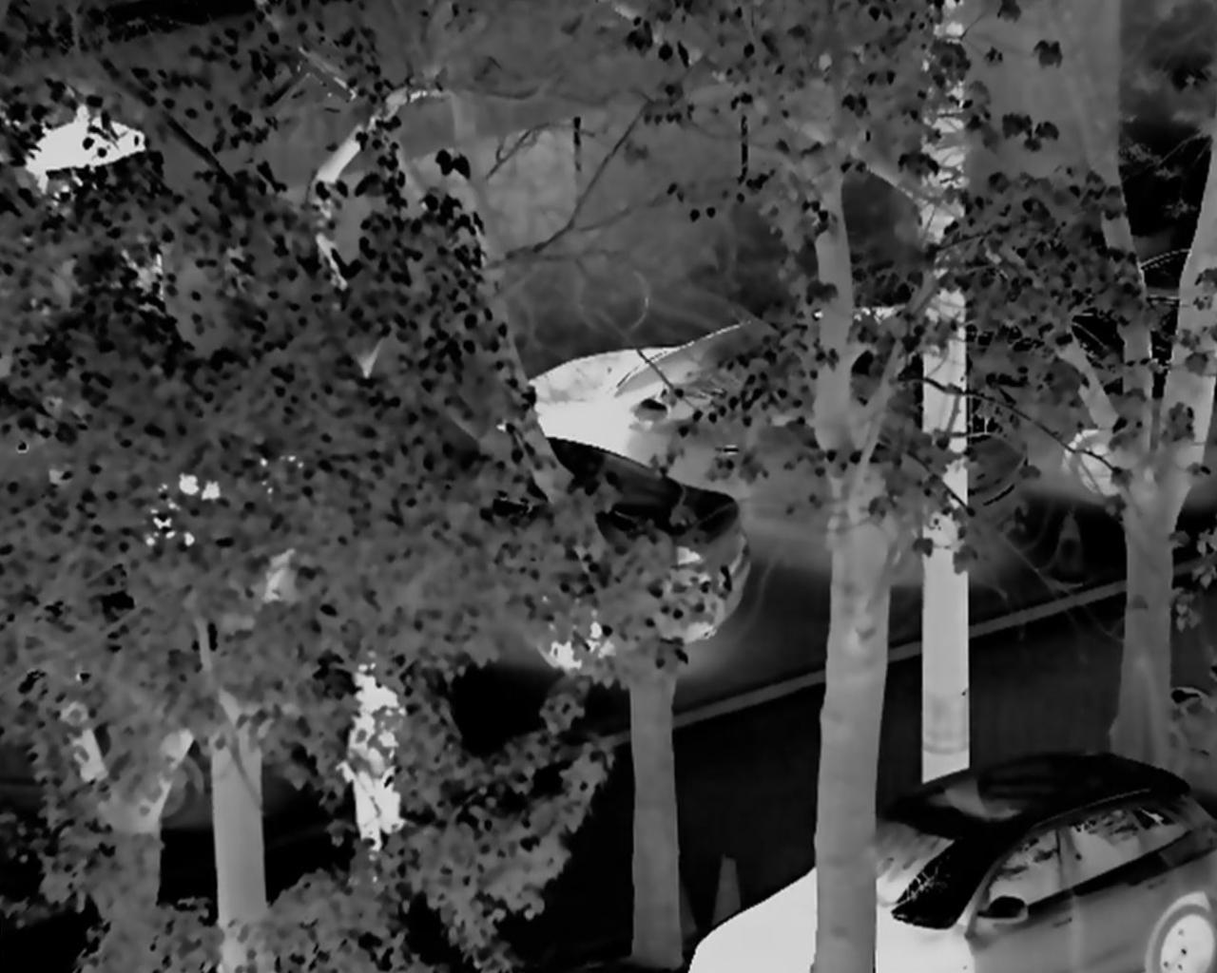person: (335, 666, 407, 885)
